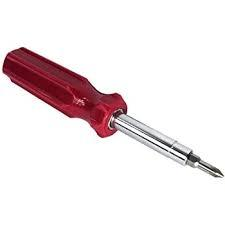screwdriver: (2, 45, 224, 178)
